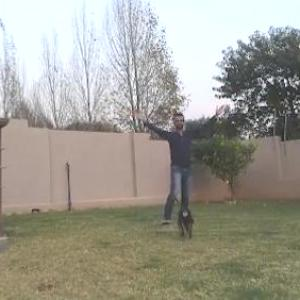takeoff: (121, 106, 216, 224)
